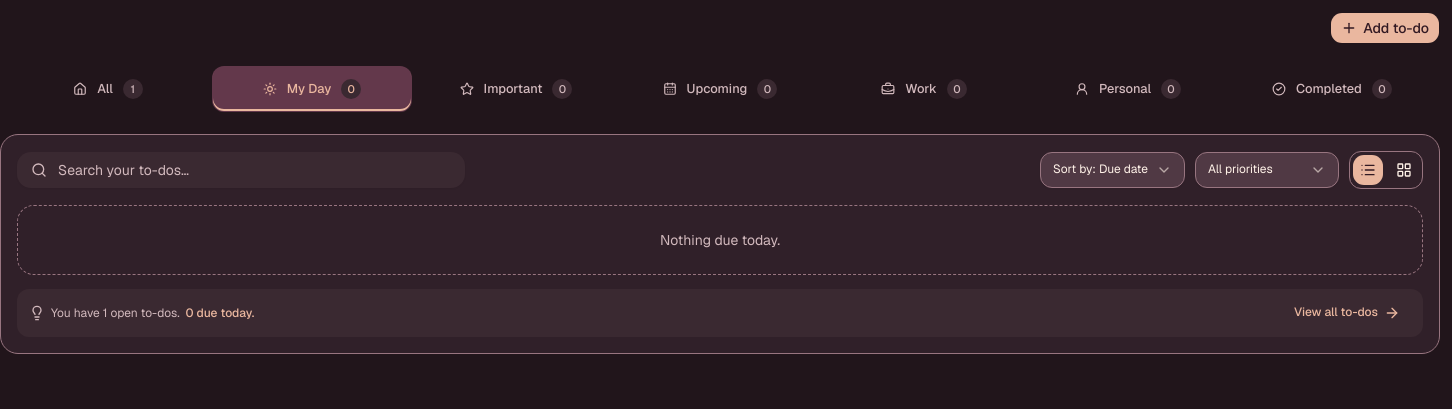
Test: TodoManager › shows an undated, non-Work/Personal, non-important item only under All
This screenshot has width=1452, height=409.
expect the text "Nothing due today." is shown: met, box [17, 205, 1423, 275]
Click the button "Upcoming 0" at (720, 89), box [620, 66, 820, 112]
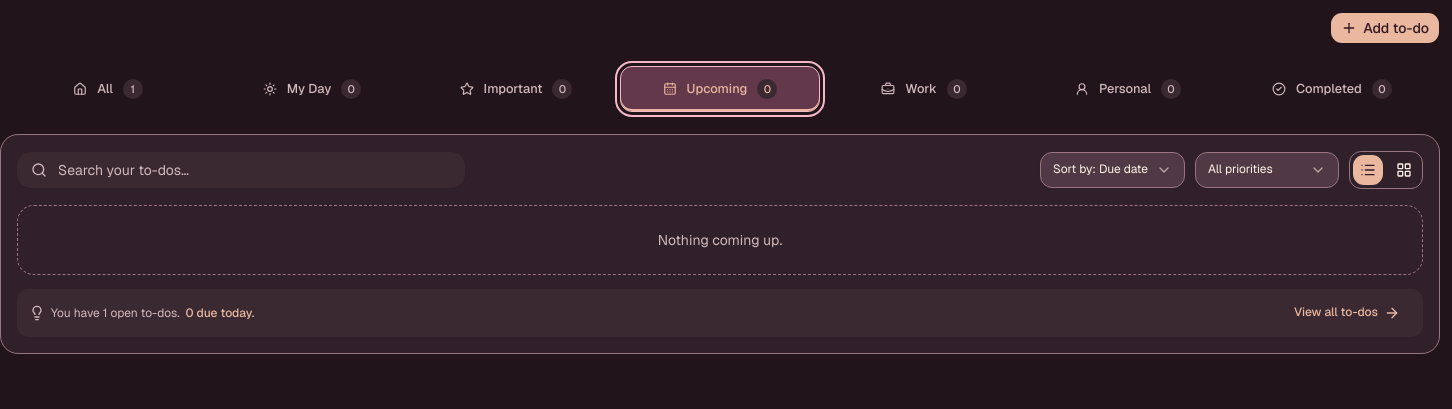
expect the text "Follow up with sponsor" is not shown: met
Click the button "Important 0" at (516, 89), box [416, 66, 616, 112]
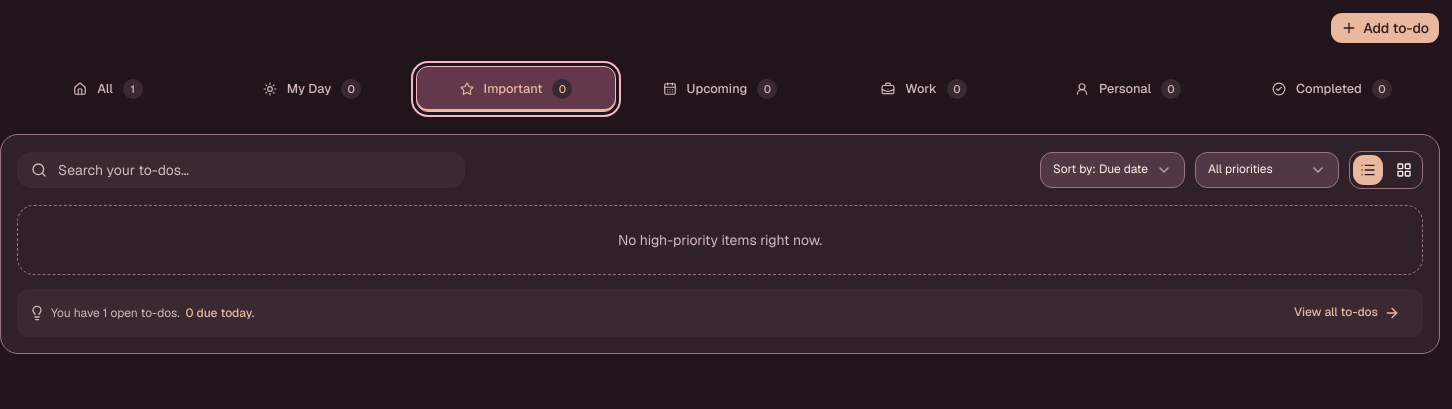
expect the text "Follow up with sponsor" is not shown: met
Click the button "Work 0" at (924, 89), box [824, 66, 1024, 112]
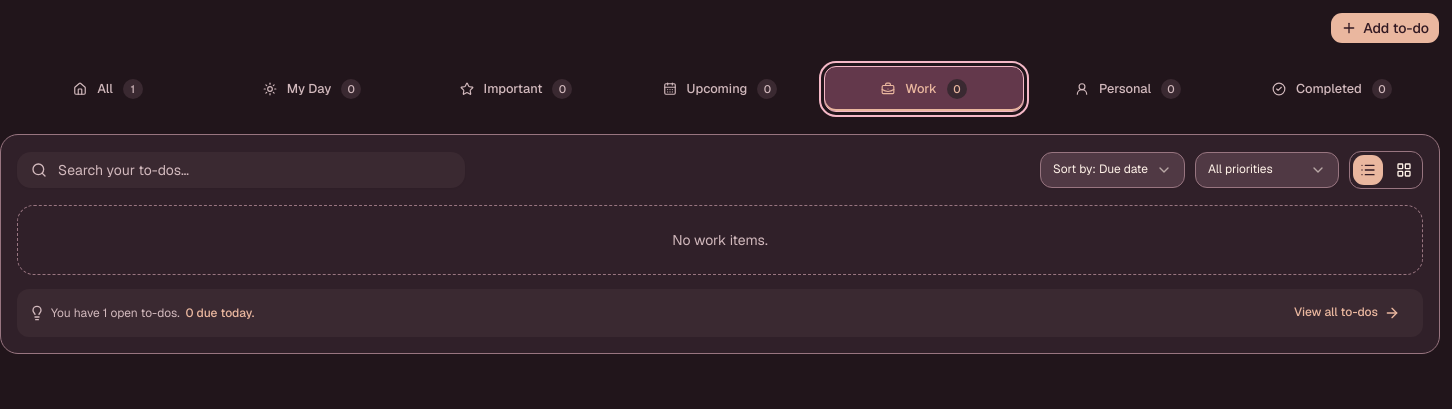
expect the text "Follow up with sponsor" is not shown: met
Click the button "Personal 0" at (1128, 89), box [1028, 66, 1228, 112]
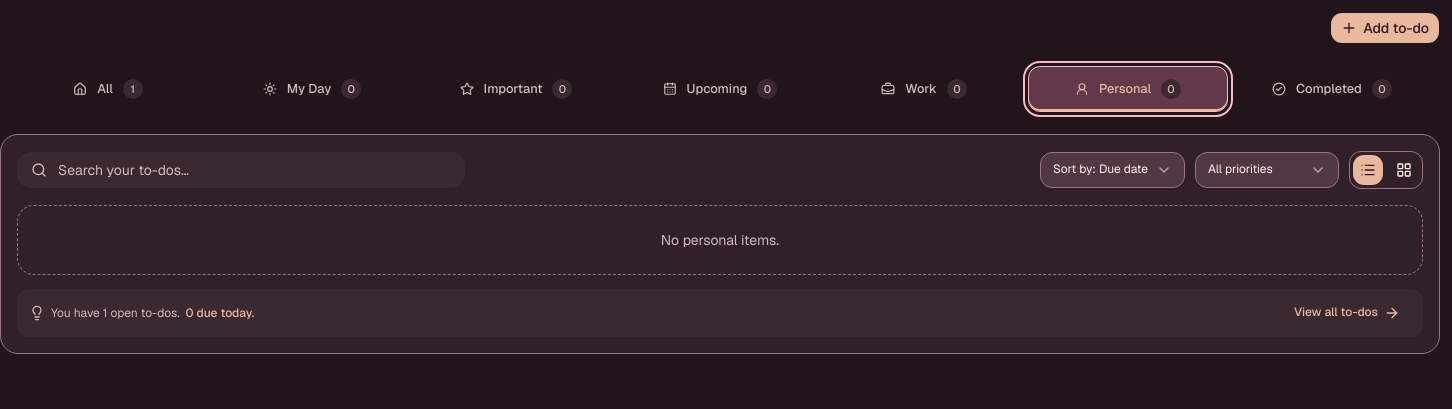
expect the text "Follow up with sponsor" is not shown: met
Click the button "Completed 0" at (1332, 89), box [1232, 66, 1432, 112]
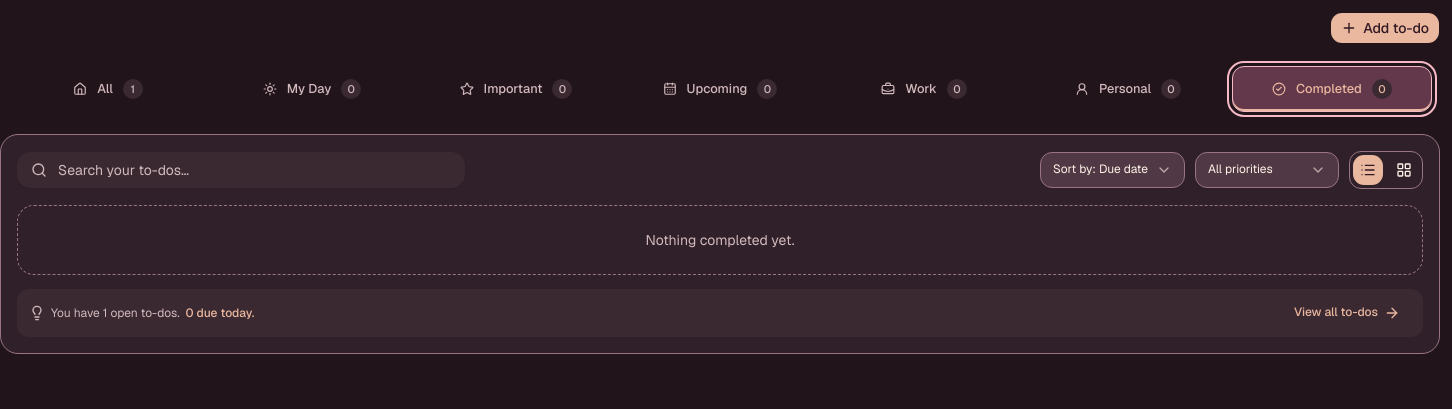
expect the text "Follow up with sponsor" is not shown: met
Click the button "All 1" at (108, 89), box [8, 66, 208, 112]
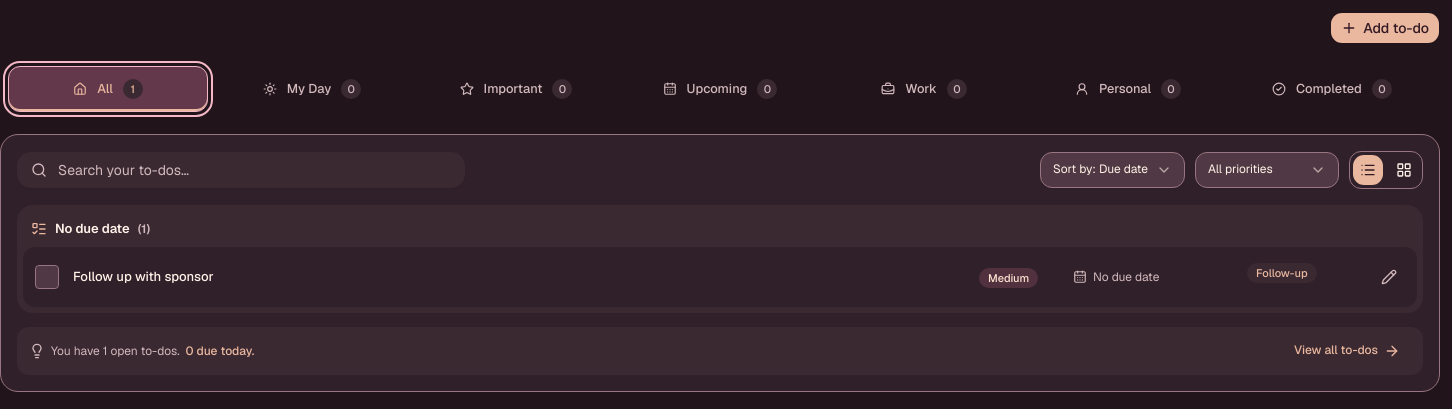
expect the text "Follow up with sponsor" is shown: met, box [73, 268, 214, 285]
